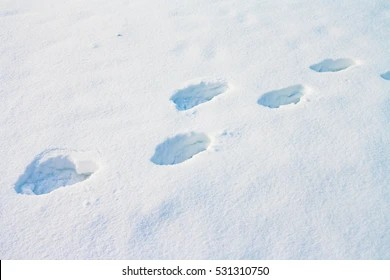human_foot_print: (15, 142, 98, 198), (148, 127, 220, 166), (163, 77, 234, 112), (253, 81, 316, 110), (309, 51, 363, 75)
